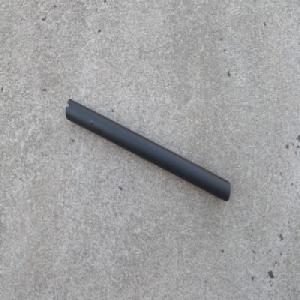LuggagePart: (64, 96, 231, 203)
